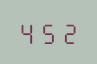five: (39, 20, 58, 44)
four: (18, 20, 37, 44)
two: (59, 20, 78, 44)
